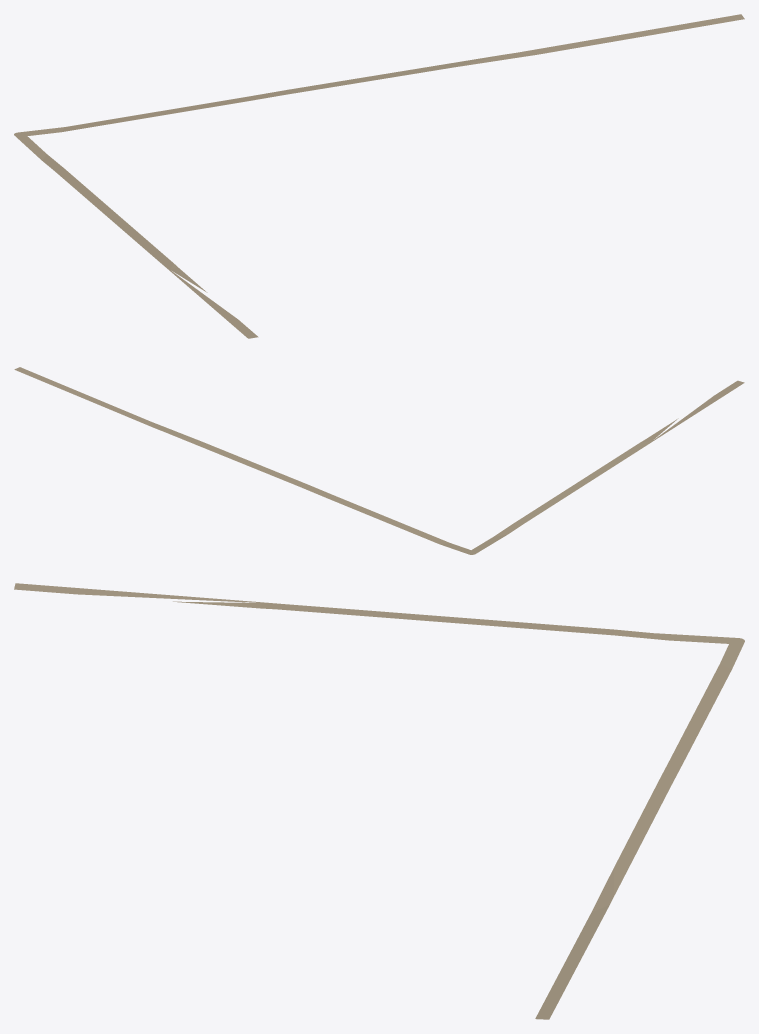
File: farm_17_15_track.glb
3 views of the same model, one above another, from view 1: azimuth 30°, elevation 25°; view 2: azimuth 150°, elevation 25°; view 3: azimuth 270°, elevation 25° (orthographic). The views are drawn at different scales.
Visible parts, largest first — view 1: geometry_0; view 2: geometry_0; view 3: geometry_0.
Part boxes in pixels (left/top/right/bottom): geometry_0: left=14, top=14, right=744, bottom=338; geometry_0: left=14, top=367, right=744, bottom=554; geometry_0: left=14, top=583, right=744, bottom=1019.
Size of the model in its own units: 234 by 6.18 by 166.
